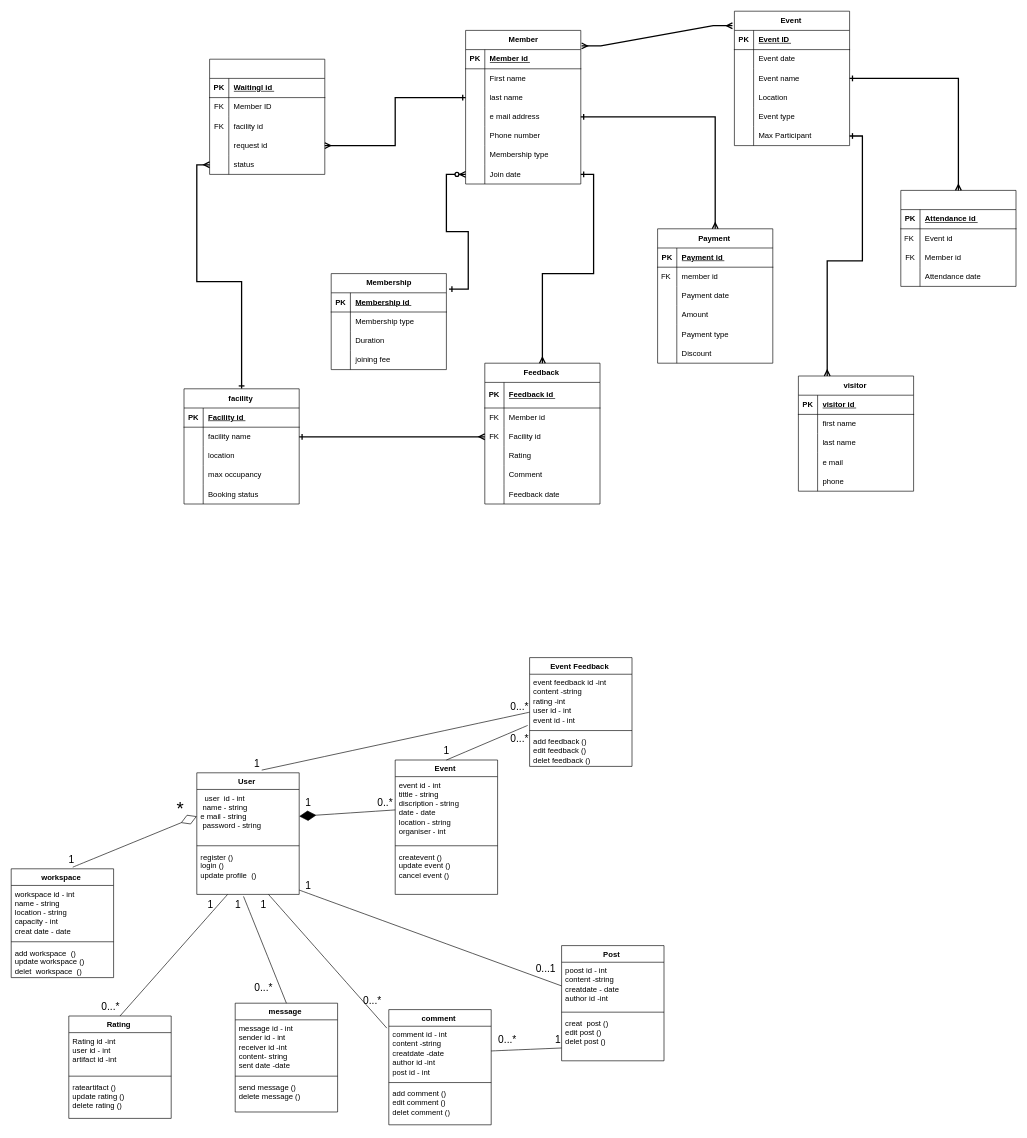
The diagram is 1027 pixels wide and 1138 high, and some of its shapes have lost their labels. Each missing label, with the box of its shape:
EventAttendance: (900, 190, 1016, 286)
Waiting list: (209, 59, 325, 174)
